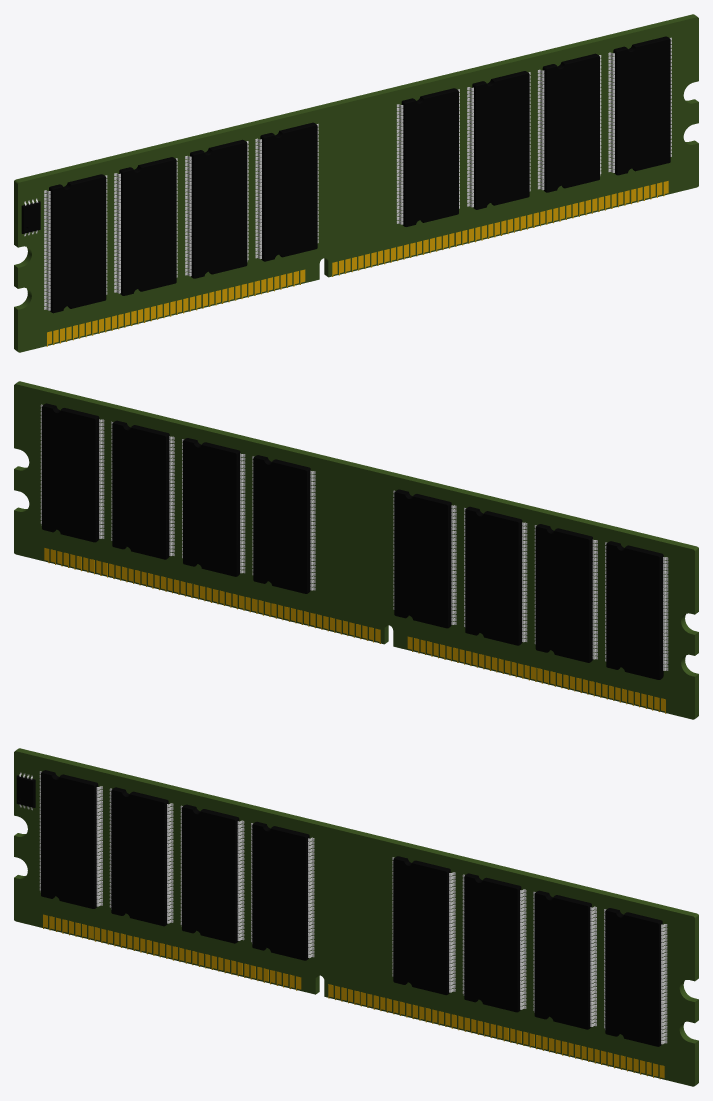
File: Memoria RAM (SRAMDRAM).glb
The picture shows the model from 3 angles, top to bottom: view 1: azimuth 30°, elevation 25°; view 2: azimuth 150°, elevation 25°; view 3: azimuth 330°, elevation 25°; orthographic projection.
Visible parts, largest first — view 1: Plane, Plane.028, Plane.034, Plane.036, Plane.048, Plane.042, Plane.030, Plane.040, Plane.046, Plane.041, Plane.047, Plane.035 (+6 smaller); view 2: Plane, Plane.013, Plane.004, Plane.019, Plane.009, Plane.021, Plane.007, Plane.015, Plane.001, Plane.022, Plane.016, Plane.012 (+5 smaller); view 3: Plane, Plane.046, Plane.048, Plane.036, Plane.040, Plane.030, Plane.042, Plane.028, Plane.034, Plane.037, Plane.052, Plane.031 (+6 smaller).
Boxes of the visible parts, x1,y1,x2,y2 form: Plane: (14, 14, 698, 352); Plane.028: (49, 174, 106, 313); Plane.034: (190, 139, 247, 278); Plane.036: (260, 122, 317, 261); Plane.048: (613, 36, 670, 175); Plane.042: (472, 71, 529, 209); Plane.030: (119, 157, 176, 295); Plane.040: (401, 88, 458, 226); Plane.046: (542, 53, 599, 192); Plane.041: (396, 104, 403, 224); Plane.047: (537, 69, 544, 190); Plane.035: (185, 156, 191, 276); Plane: (14, 381, 698, 719); Plane.013: (394, 489, 451, 628); Plane.004: (112, 420, 169, 559); Plane.019: (535, 524, 592, 662); Plane.009: (253, 455, 310, 593); Plane.021: (606, 541, 663, 679); Plane.007: (183, 438, 240, 576); Plane.015: (465, 506, 522, 645); Plane.001: (42, 403, 99, 542); Plane.022: (592, 540, 597, 659); Plane.016: (451, 505, 456, 624); Plane.012: (310, 471, 315, 590); Plane: (14, 748, 698, 1086); Plane.046: (534, 890, 591, 1029); Plane.048: (605, 908, 662, 1046); Plane.036: (252, 821, 309, 960); Plane.040: (393, 856, 450, 995); Plane.030: (111, 787, 168, 926); Plane.042: (464, 873, 521, 1012); Plane.028: (41, 770, 98, 908); Plane.034: (182, 804, 239, 943); Plane.037: (237, 820, 244, 940); Plane.052: (590, 906, 596, 1026); Plane.031: (96, 786, 102, 906).
Size of the model in its own units: 0.1335 by 0.032 by 0.00406.
